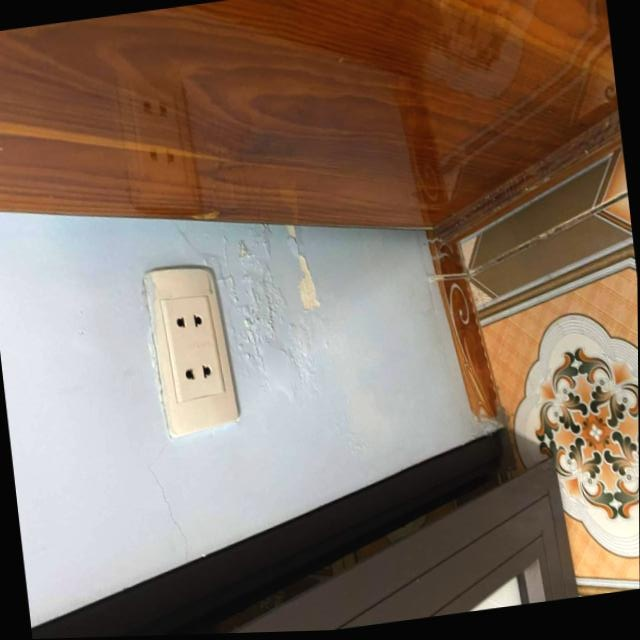outlet: (139, 260, 241, 443)
